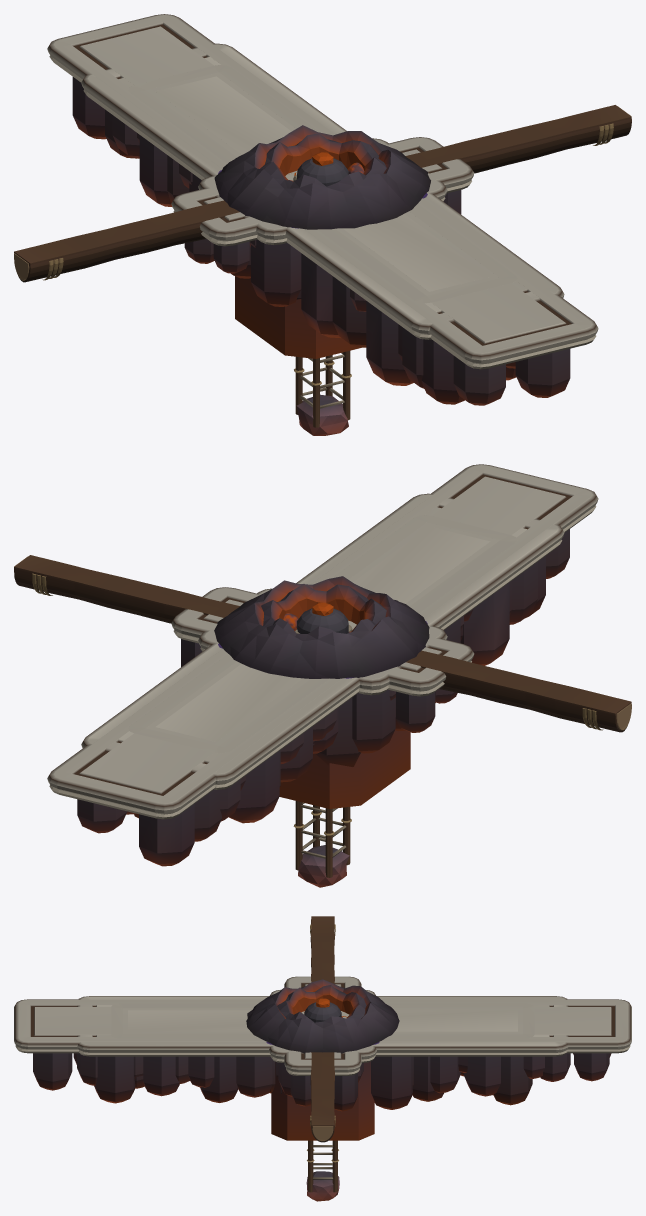
The model's file is volcano-5-CZmIVsgR.glb.
3 renders of one model, top to bottom at view 1: azimuth 30°, elevation 25°; view 2: azimuth 150°, elevation 25°; view 3: azimuth 270°, elevation 25°, orthographic. The views are drawn at different scales.
Parts seen in each view (by area): view 1: block_7x2x40#0, block_8x2x32_grate#0, block_6x2x28#0, beam_32x1x1.5#0, geyserVent_5.4#0, block_14x2x5#0, block_10x2x7#0, block_7x2x7_ledge#0, geyserVent_3.9#0, truss_11.6#0, barHub_5.6x1.2#0; view 2: block_7x2x40#0, block_8x2x32_grate#0, block_6x2x28#0, beam_32x1x1.5#0, geyserVent_5.4#0, block_14x2x5#0, block_7x2x7_ledge#0, geyserVent_3.9#0, block_10x2x7#0, truss_11.6#0, block_8x2x8_shard#0, barHub_5.6x1.2#0; view 3: block_7x2x40#0, block_8x2x32_grate#0, block_6x2x28#0, geyserVent_5.4#0, beam_32x1x1.5#0, block_7x2x7_ledge#0, block_14x2x5#0, geyserVent_3.9#0, truss_11.6#0, block_10x2x7#0, barHub_5.6x1.2#0.
Part boxes in pixels (x1,y1,x2,y2): block_7x2x40#0: (47, 14, 598, 405); block_8x2x32_grate#0: (81, 43, 564, 388); block_6x2x28#0: (128, 65, 517, 303); beam_32x1x1.5#0: (14, 105, 631, 282); geyserVent_5.4#0: (214, 125, 430, 229); block_14x2x5#0: (171, 137, 474, 273); block_10x2x7#0: (198, 138, 447, 306); block_7x2x7_ledge#0: (235, 276, 361, 358); geyserVent_3.9#0: (260, 133, 386, 191); truss_11.6#0: (293, 174, 351, 435); barHub_5.6x1.2#0: (297, 152, 348, 186); block_7x2x40#0: (47, 464, 598, 866); block_8x2x32_grate#0: (81, 493, 564, 823); block_6x2x28#0: (128, 515, 517, 753); beam_32x1x1.5#0: (14, 555, 631, 732); geyserVent_5.4#0: (214, 576, 429, 678); block_14x2x5#0: (171, 587, 474, 732); block_7x2x7_ledge#0: (279, 730, 410, 808); geyserVent_3.9#0: (261, 584, 386, 640); block_10x2x7#0: (198, 588, 447, 753); truss_11.6#0: (293, 625, 352, 887); block_8x2x8_shard#0: (218, 621, 427, 766); barHub_5.6x1.2#0: (294, 602, 351, 633); block_7x2x40#0: (14, 999, 631, 1105); block_8x2x32_grate#0: (77, 996, 568, 1109); block_6x2x28#0: (111, 1003, 534, 1093); geyserVent_5.4#0: (246, 979, 399, 1053); beam_32x1x1.5#0: (310, 916, 335, 1142); block_7x2x7_ledge#0: (271, 1061, 374, 1140); block_14x2x5#0: (284, 976, 361, 1111); geyserVent_3.9#0: (277, 985, 366, 1027); truss_11.6#0: (306, 1140, 339, 1201); block_10x2x7#0: (269, 989, 376, 1096); barHub_5.6x1.2#0: (304, 998, 342, 1022).
Size of the model in its own units: 32.12 by 14.25 by 40.
